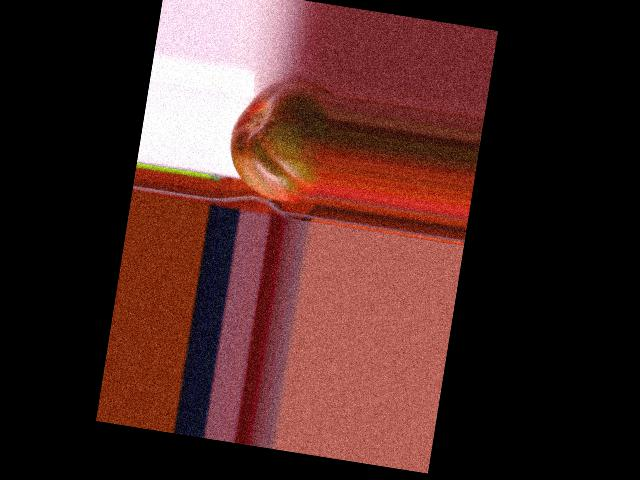tomato: (222, 72, 335, 207)
